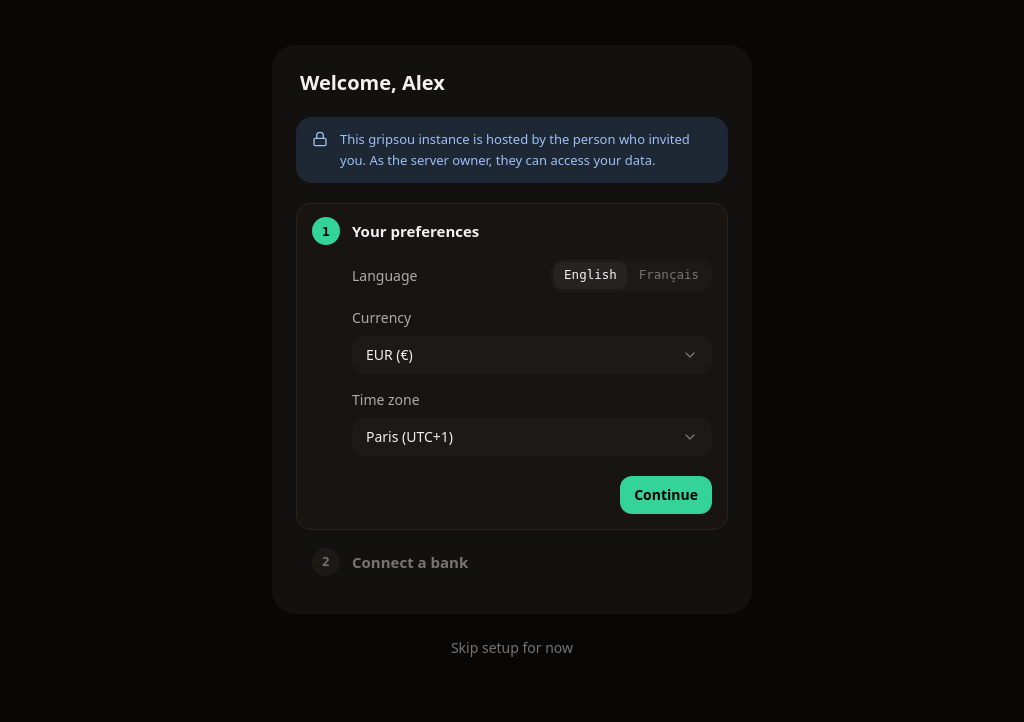
Welcome › shows an error and stays put when finishing fails
(page scrolled)
Click the button "Skip setup for now" at (512, 648), box [451, 638, 573, 658]
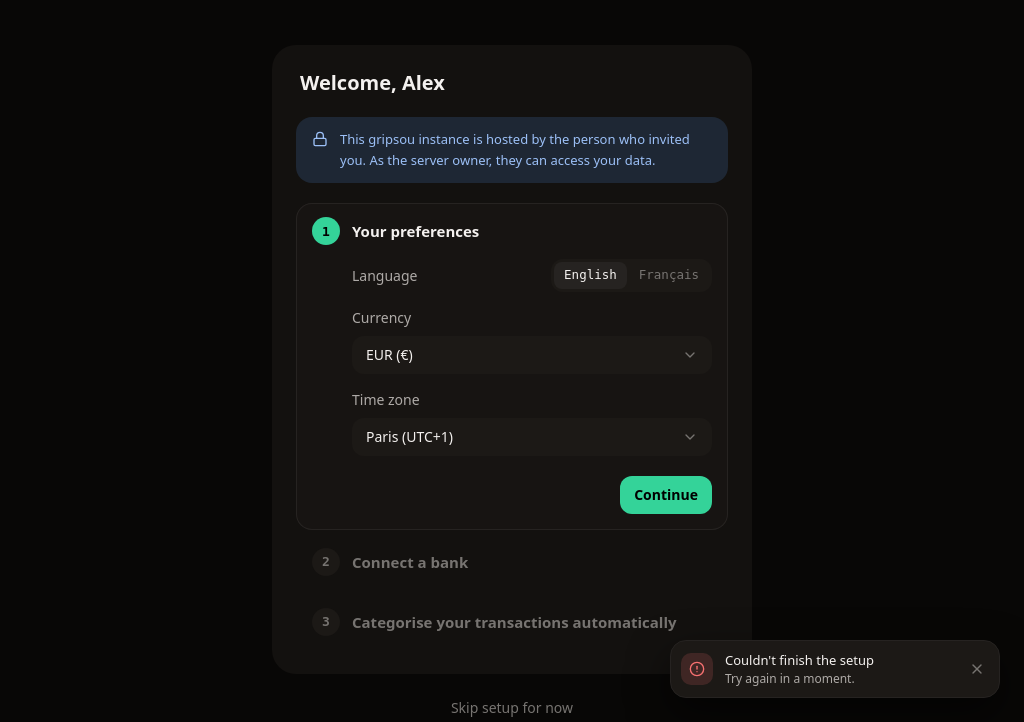
Now the text "Couldn't finish the setup" is shown, box [725, 651, 874, 669]
